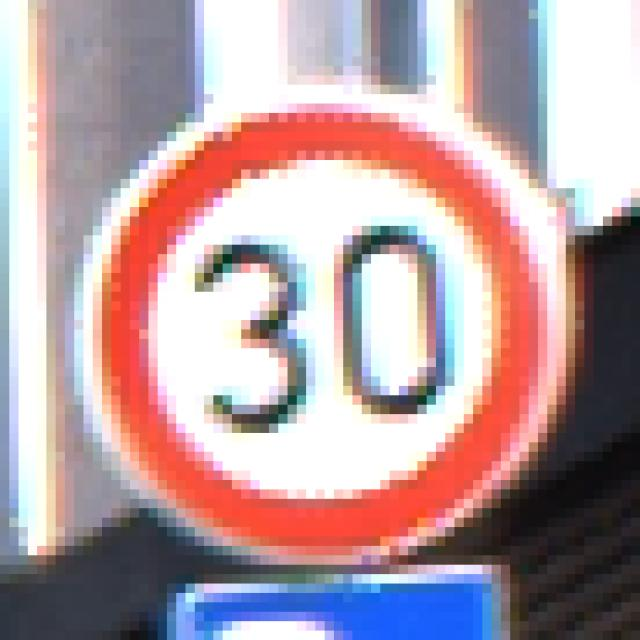Speed Limit -30-: (65, 52, 575, 579)
